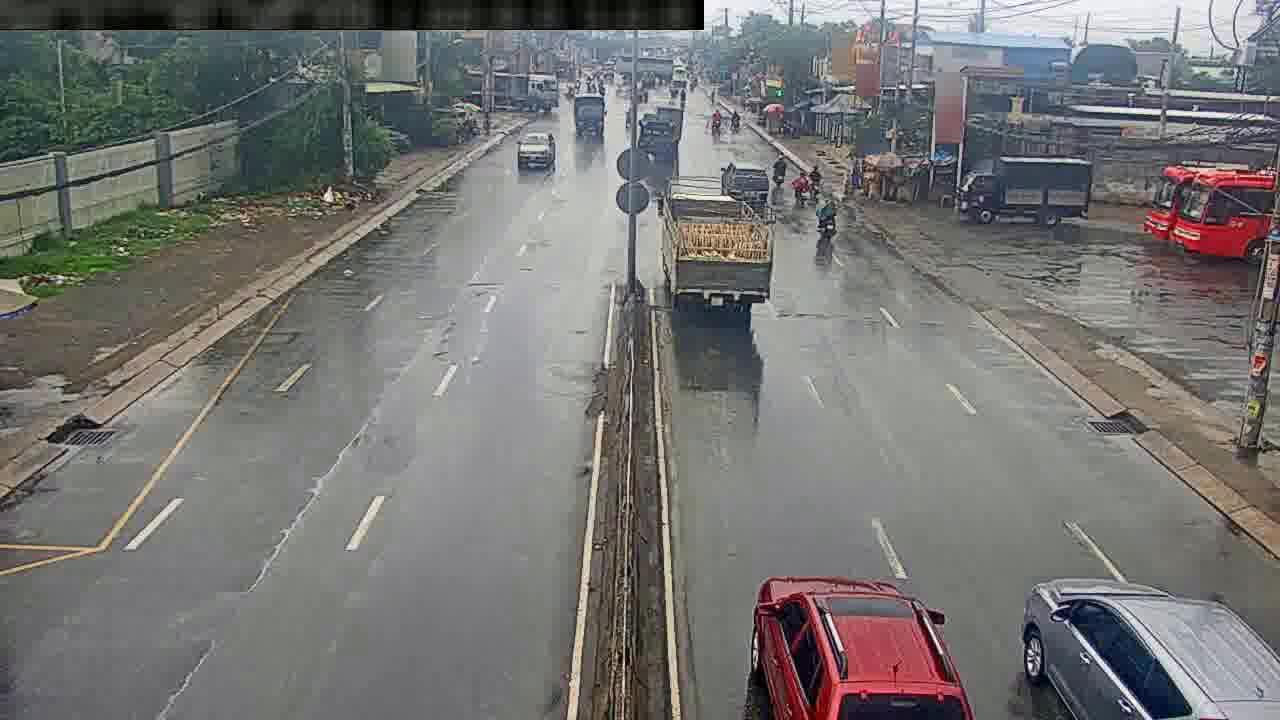8: (665, 177, 765, 309), (642, 94, 684, 154), (572, 91, 605, 135)
container: (1022, 578, 1280, 720), (751, 572, 976, 720), (514, 129, 555, 175), (722, 161, 767, 199)
motorbike: (818, 194, 837, 247), (795, 166, 810, 207), (772, 151, 787, 185)
